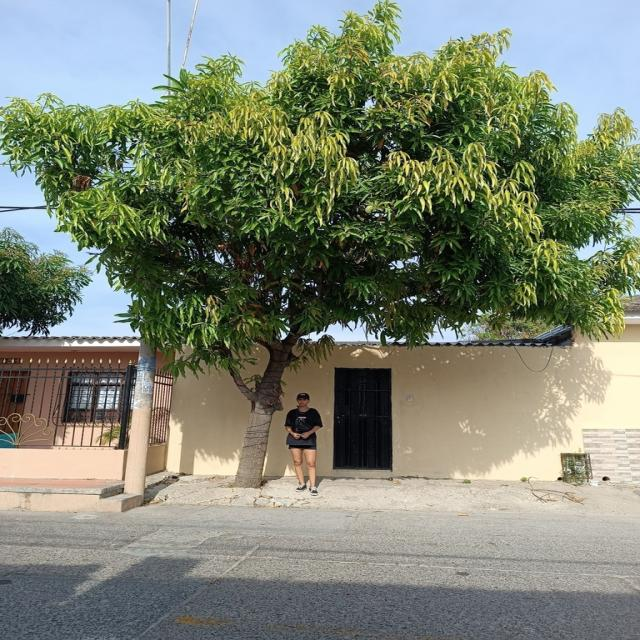Mango-Tree: (10, 17, 613, 392)
